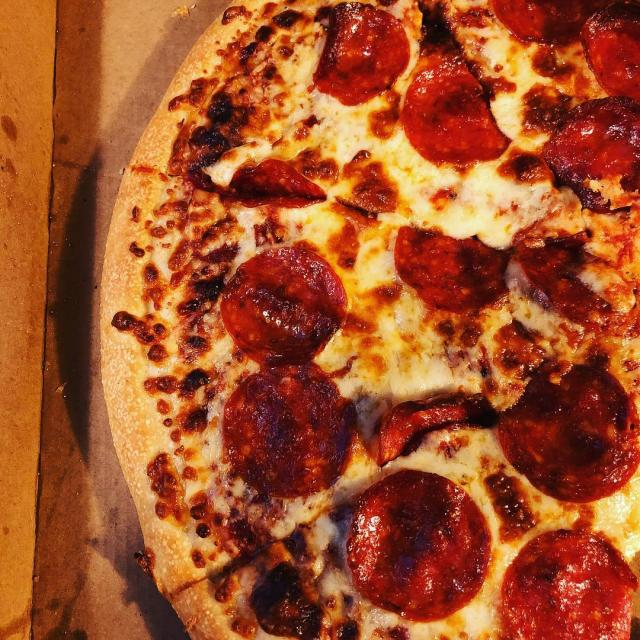pepperoni: (344, 470, 496, 625), (493, 350, 640, 506), (212, 362, 354, 496), (506, 215, 640, 351), (217, 244, 351, 366), (499, 529, 640, 640), (397, 54, 513, 172), (535, 93, 640, 222), (389, 214, 517, 314), (308, 0, 412, 105), (369, 393, 501, 468), (216, 152, 328, 209), (585, 0, 640, 110), (490, 1, 612, 46)
pizza: (95, 0, 640, 640)
